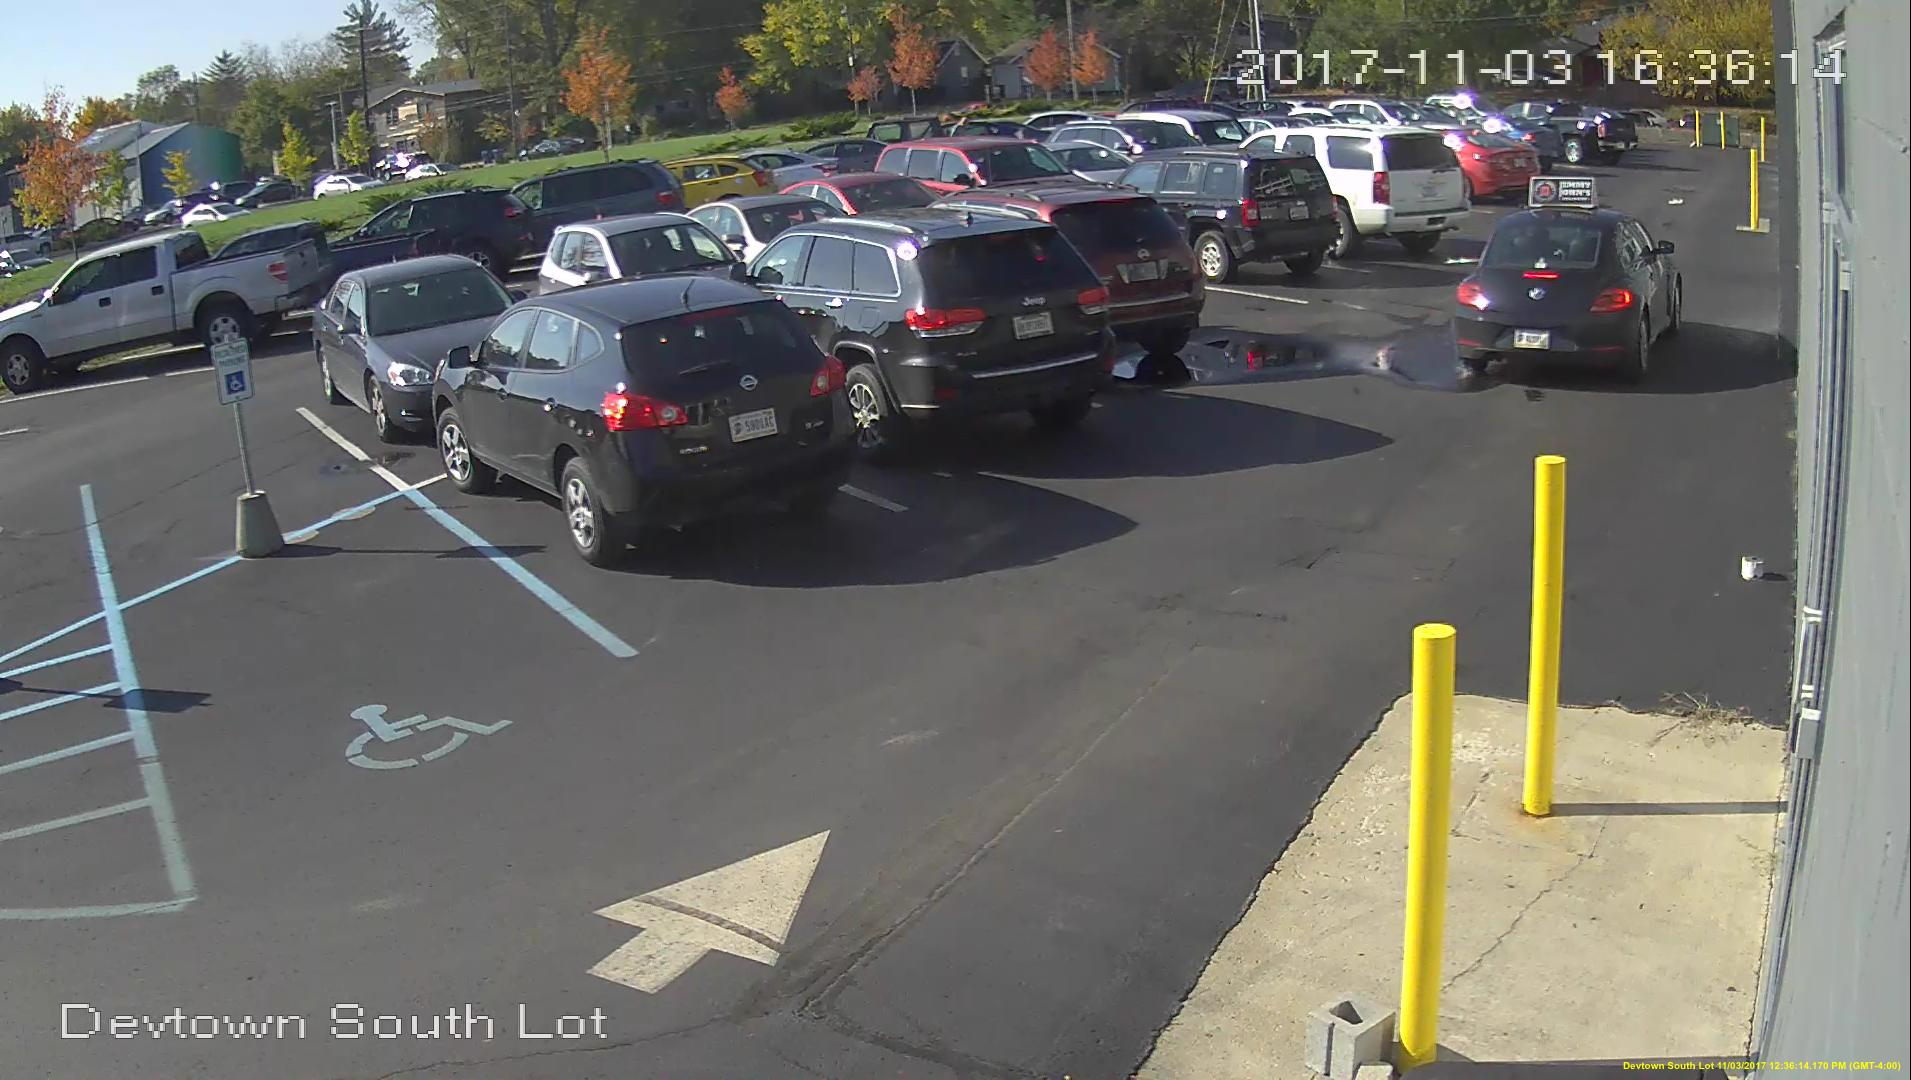jimmy_johns: (1524, 173, 1601, 213)
